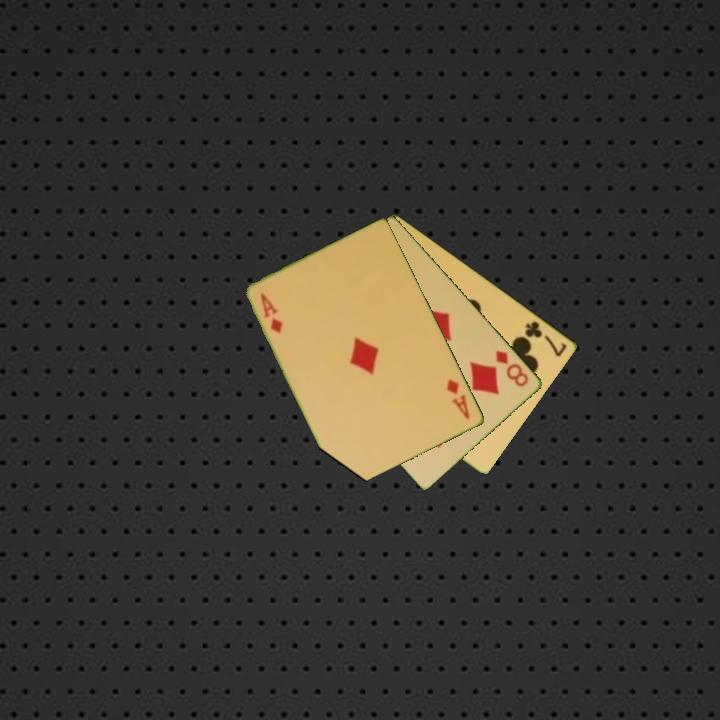7c: (521, 317, 570, 359)
8d: (492, 347, 532, 390)
Ad: (443, 375, 473, 422), (257, 290, 286, 336)
